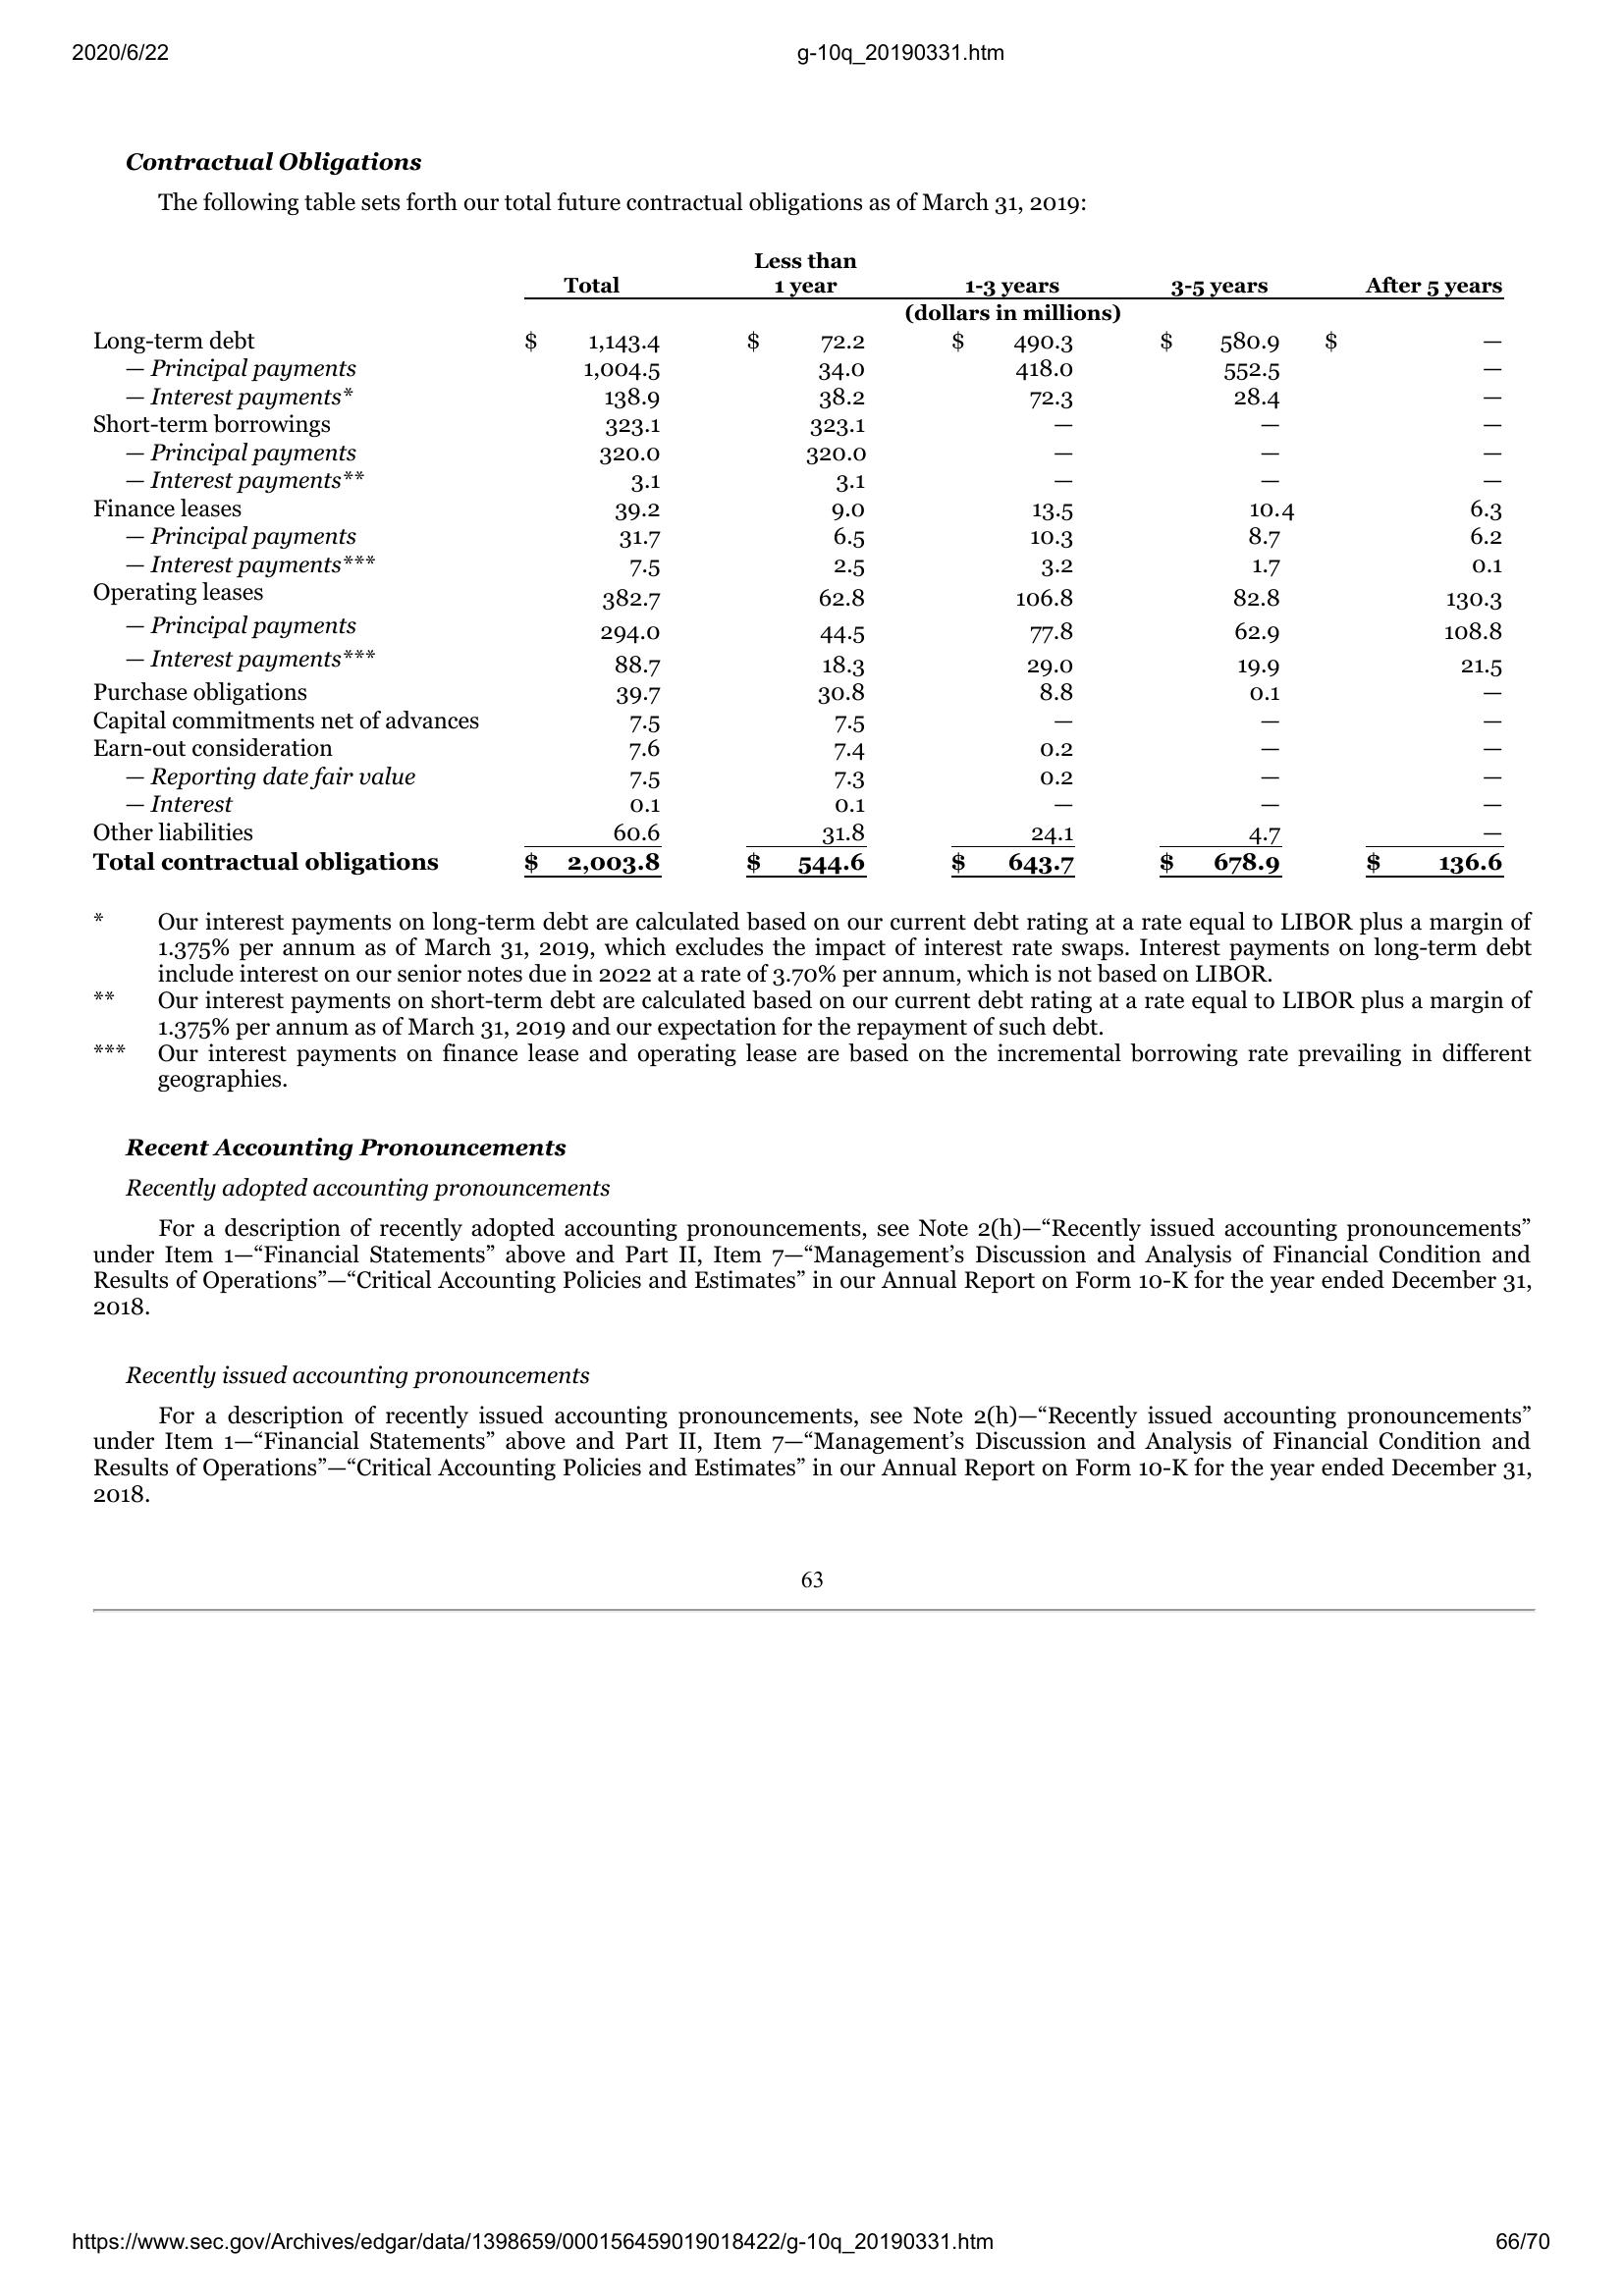table: (83, 248, 1526, 885)
